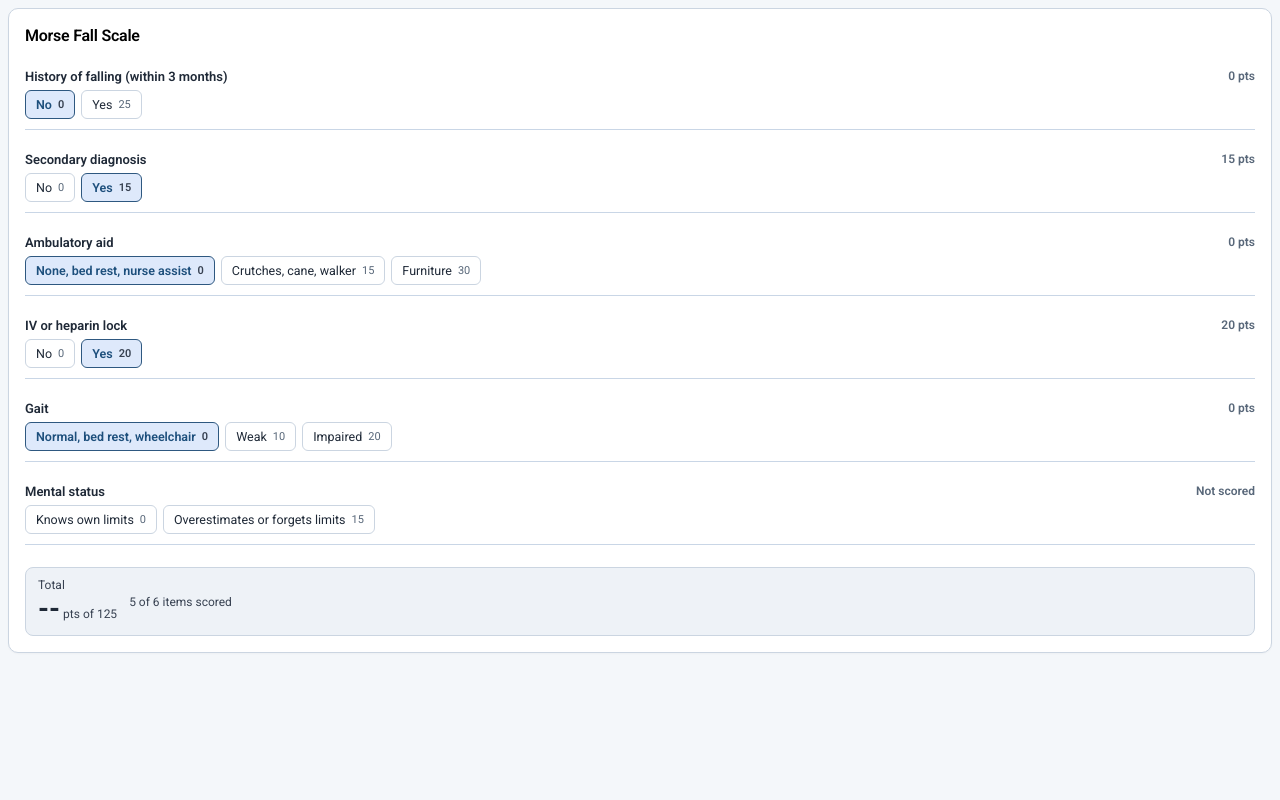
Test case: FallRiskScore › shows progress until every item is scored, then the total
Expected: the message shows "5 of 6 items scored", [25,567,1255,636]
Expected: the message shows "--", [38,592,60,625]
Click the radio button labelled "Knows own limits 0": click(91, 520) [25,505,157,534]
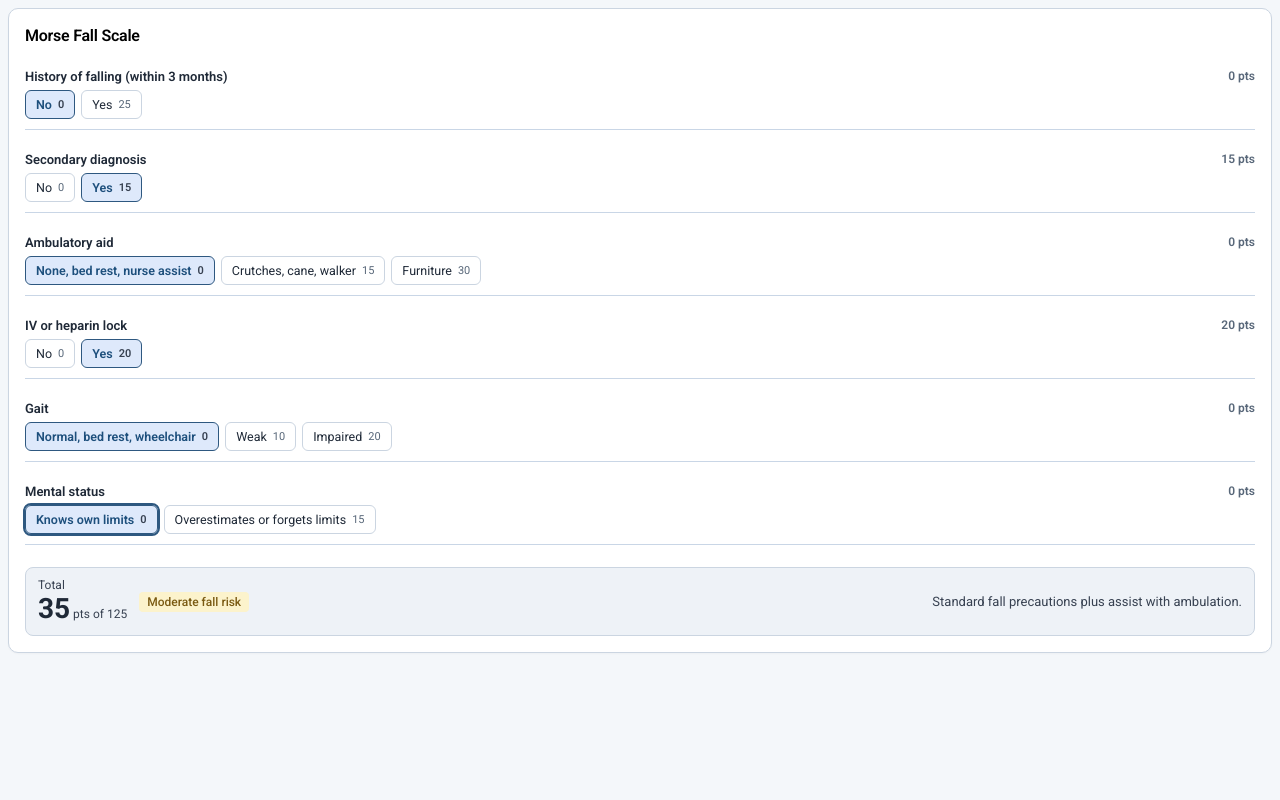
Now the message shows "35", box [38,592,70,625]
Now the message shows "Moderate fall risk", box [147,594,241,608]
